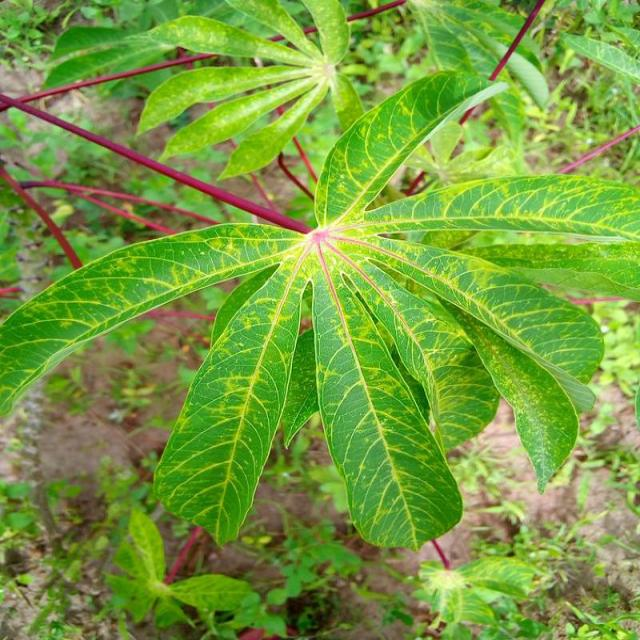cassava leaf: (1, 65, 638, 552), (151, 250, 307, 547)
